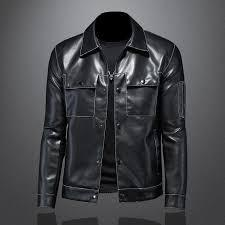jacket: (36, 13, 189, 209)
